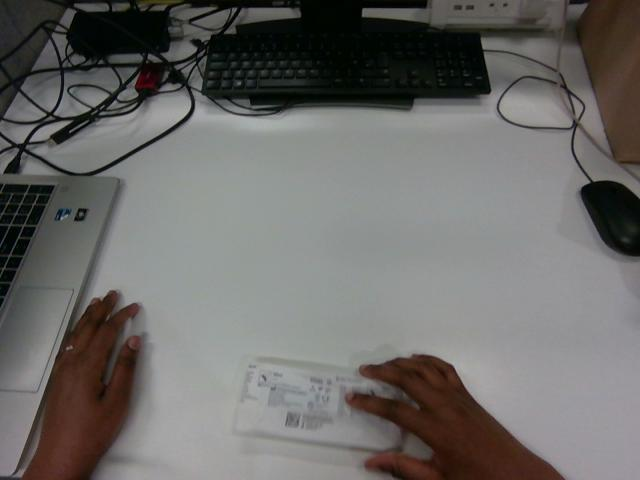syringe: (235, 359, 402, 450)
